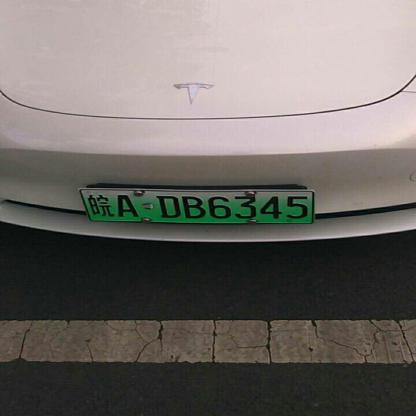lp: (79, 188, 314, 223)
